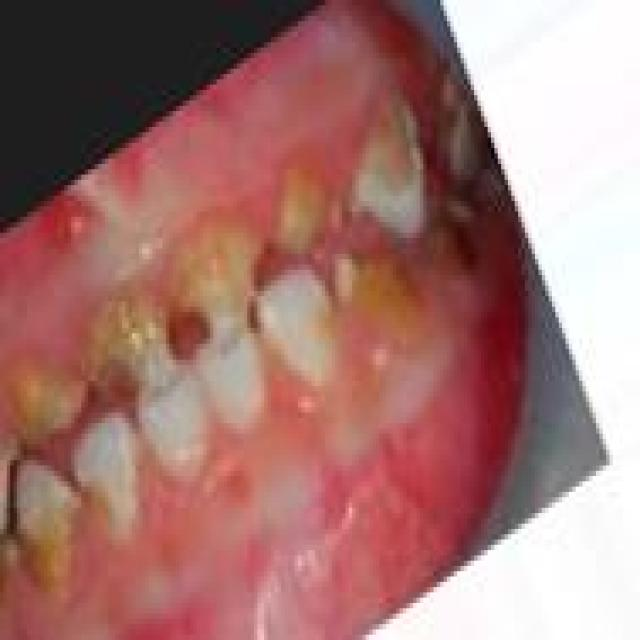caries: (170, 209, 268, 354), (81, 278, 178, 403), (353, 75, 432, 225), (2, 348, 100, 461), (328, 240, 428, 349), (10, 465, 86, 600), (267, 163, 344, 268)
